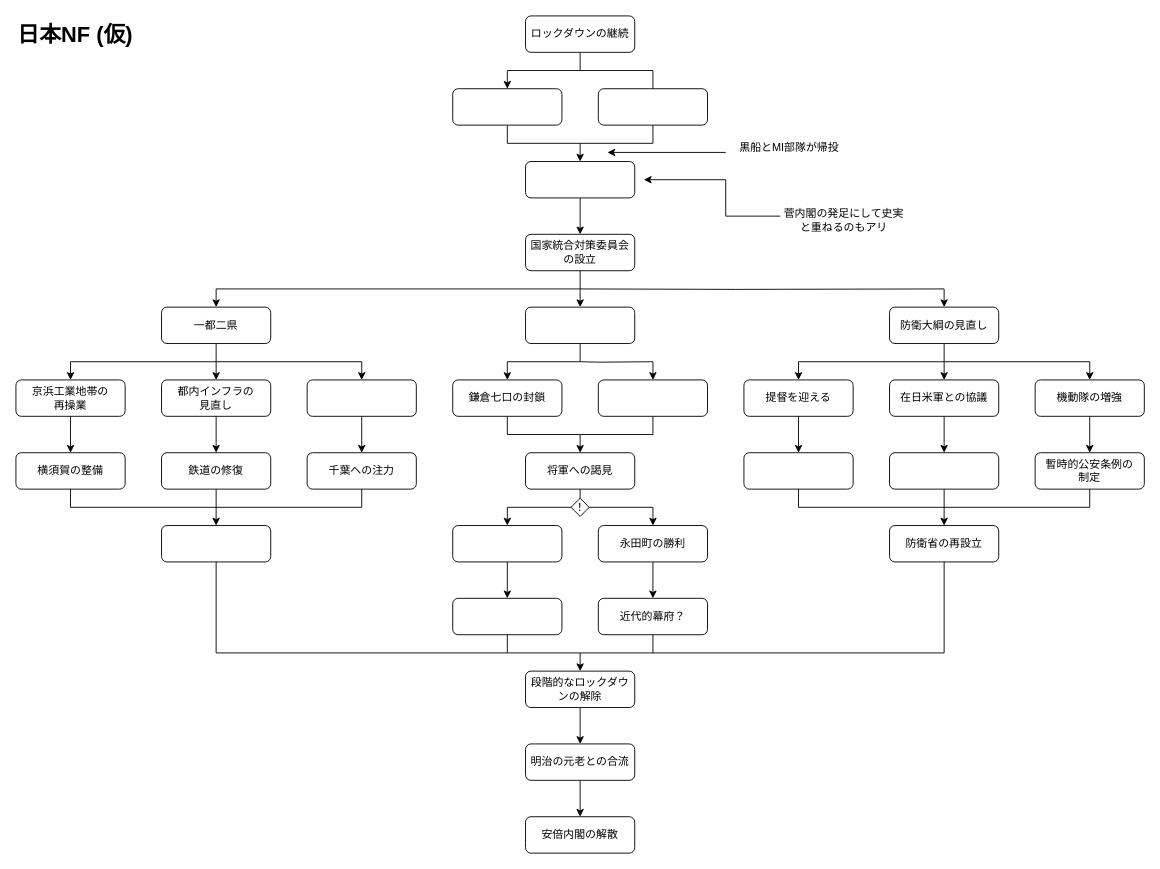
Some shapes in this 1160 by 869 pixel diagram are drawn without their labels. The centre of each missing label's shape, as x and y in pixels:
"一国二制度" belongs at [507,616].
"列島の把握" belongs at [580,325].
"利根川治水プロジェクト" belongs at [361,397].
"大手町の警備強化" belongs at [652,397].
"専門家会議の招集" belongs at [652,106].
"昭和の代議士たちとの協力" belongs at [507,106].
"狸に化かされる" belongs at [507,543].
"第三次改造内閣の 発足" belongs at [580,179].
"聯合艦隊の再編" belongs at [798,470].
"部分的な通信の回復" belongs at [216,543].
"黒船を送る" belongs at [944,470].
